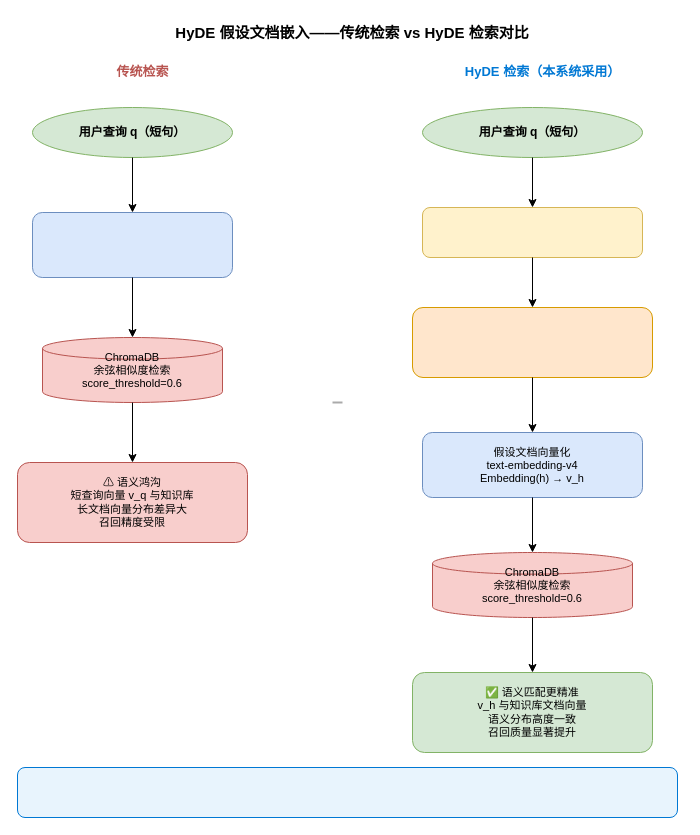
This 700x835 diagram has some shape labels left out. Each missing label, with the centre of its shape:
"HyDE Prompt 模板 注入 {question}" belongs at (x=532, y=232).
"Qwen-Flash LLM 生成假设文档 h （200~300 字专业运动训练答案）" belongs at (x=532, y=342).
"查询向量化 text-embedding-v4 Embedding(q) → v_q" belongs at (x=132, y=245).
"核心思想：用 LLM 生成与知识库文档风格一致的假设文本， 以假设文本向量 v_h 代替短查询向量 v_q 进行检索，弥合查询与文档的语义鸿沟" belongs at (x=347, y=792).
